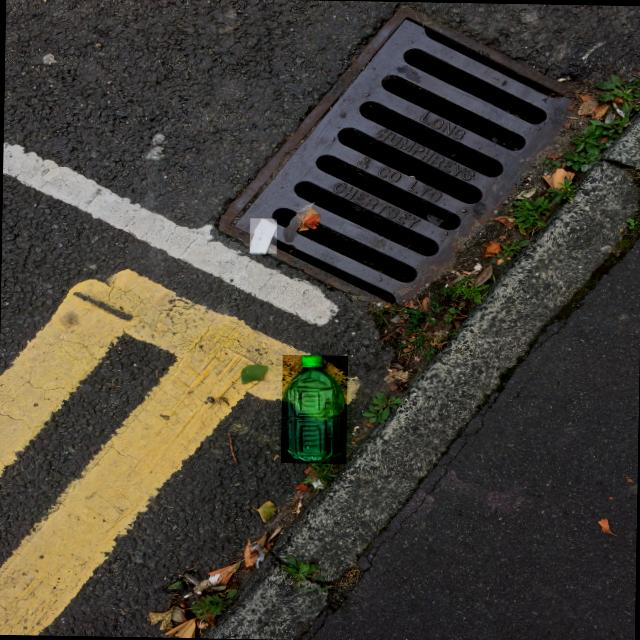Clear plastic bottle: (282, 356, 346, 463)
Paper bag: (250, 219, 277, 253)
